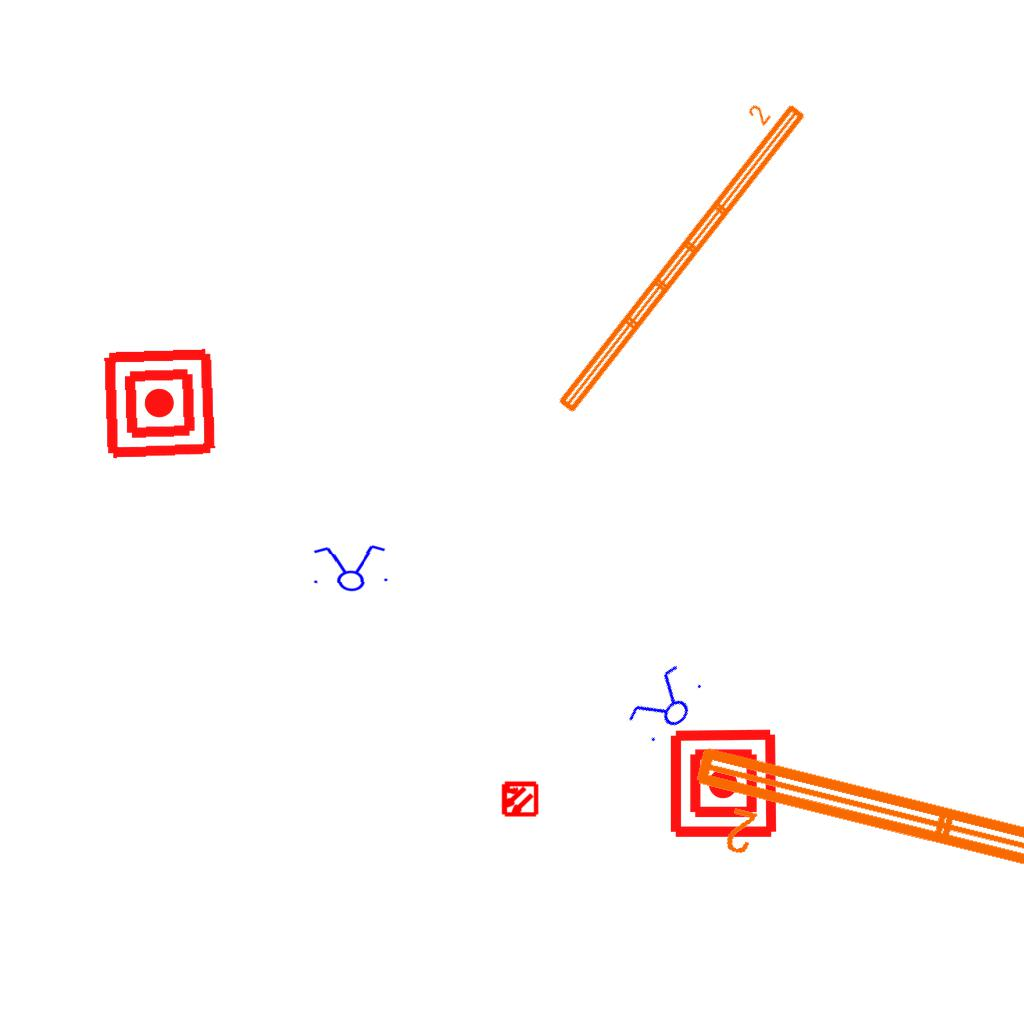Ambulanz_Pendelleuchte_LED: (671, 733, 1024, 1024), (530, 81, 813, 421)
NAM-Nichtautomatischer_Melder: (101, 345, 218, 462), (667, 727, 780, 840)
OT_Multisensormelder_(Kombination_RMO_WMD): (491, 771, 547, 827)
Serienschalter: (620, 657, 712, 753), (307, 542, 393, 594)
